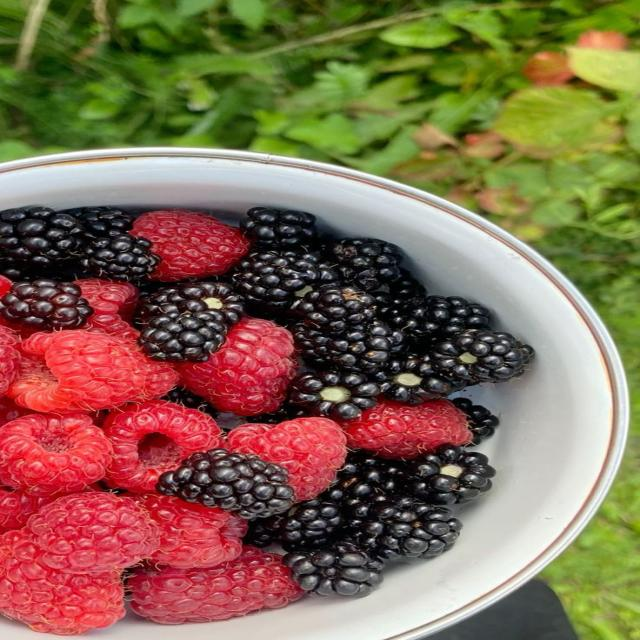raspberry: (8, 331, 178, 412), (128, 547, 302, 623), (0, 530, 125, 635), (177, 318, 296, 415), (104, 401, 223, 492), (28, 492, 159, 573), (228, 418, 346, 500), (157, 449, 293, 519), (0, 414, 112, 495), (131, 210, 248, 281), (135, 494, 247, 568), (228, 247, 338, 316), (344, 400, 471, 459), (350, 496, 461, 561), (293, 320, 403, 373), (283, 541, 383, 597), (406, 445, 495, 505), (430, 329, 528, 382), (0, 206, 84, 266), (138, 310, 230, 362), (374, 353, 466, 405), (0, 279, 93, 330), (140, 282, 243, 328), (290, 370, 381, 420), (391, 296, 488, 339), (326, 238, 403, 291), (293, 284, 376, 332), (76, 279, 138, 339), (81, 234, 160, 281), (277, 496, 343, 550), (334, 452, 403, 501), (240, 207, 317, 249), (0, 486, 66, 533), (75, 278, 138, 323), (0, 487, 51, 533), (452, 397, 499, 445), (371, 276, 425, 317), (63, 206, 132, 237), (0, 325, 20, 395), (0, 397, 32, 426), (0, 275, 13, 296)
